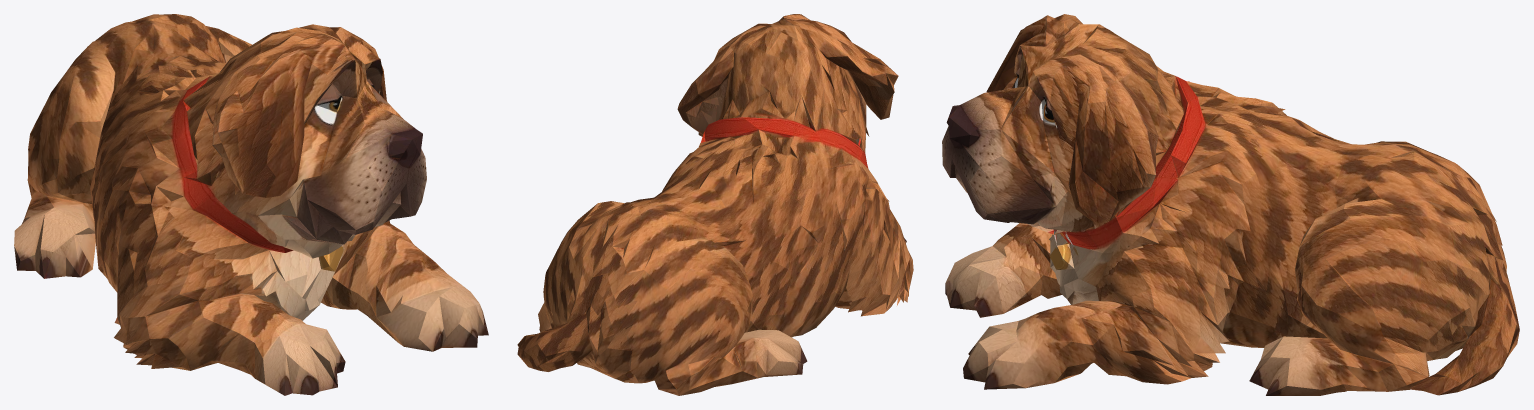
File: dog-mastiff.glb
3 renders of one model, left to right at view 1: azimuth 30°, elevation 25°; view 2: azimuth 150°, elevation 25°; view 3: azimuth 270°, elevation 25°, orthographic. The views are drawn at different scales.
Size of the model in its own units: 0.5774 by 0.516 by 0.9003.
Materials: 1 (1 with a texture image).
